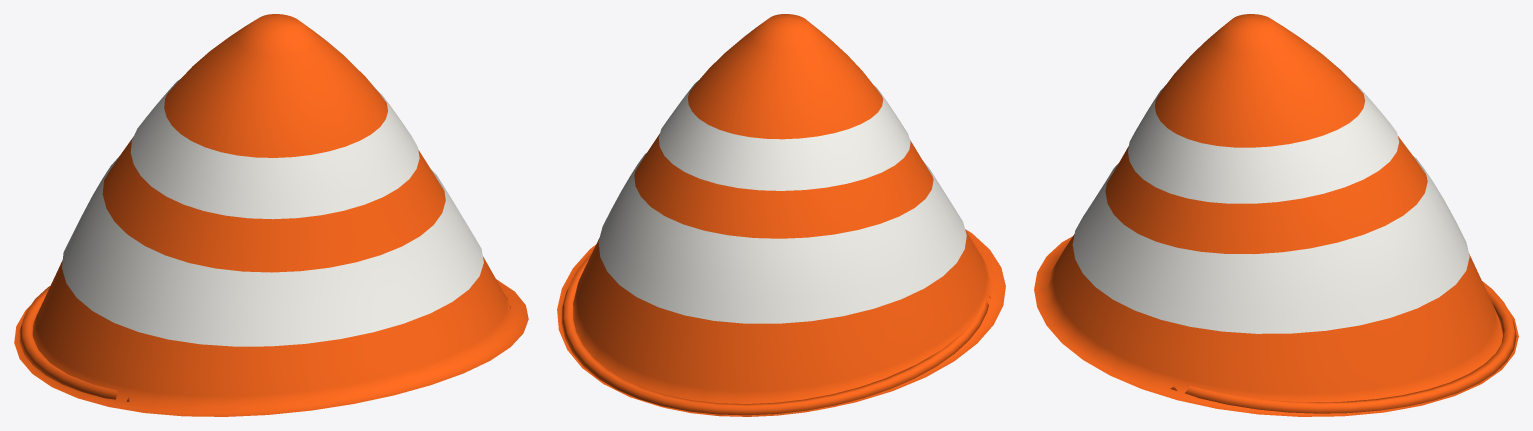
The model's file is hat_cone.glb.
3 renders of one model, left to right at view 1: azimuth 30°, elevation 25°; view 2: azimuth 150°, elevation 25°; view 3: azimuth 270°, elevation 25°, orthographic. The views are drawn at different scales.
Visible parts, largest first — view 1: HatCone; view 2: HatCone; view 3: HatCone.
Part boxes in pixels (x1,y1,x2,y2): HatCone: (14,14,528,416); HatCone: (557,14,1005,416); HatCone: (1034,14,1518,416).
Size of the model in its own units: 0.5554 by 0.4117 by 0.5636.
